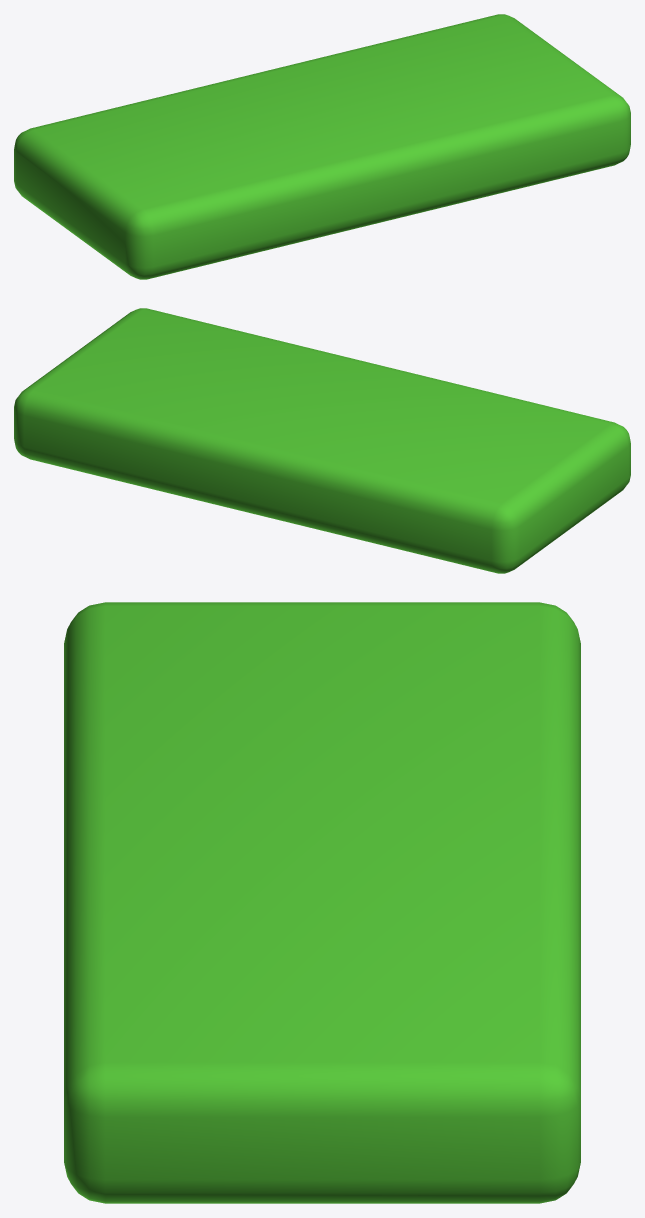
File: grass.fbx
3 views of the same model, one above another, from view 1: azimuth 30°, elevation 25°; view 2: azimuth 150°, elevation 25°; view 3: azimuth 270°, elevation 25° (orthographic). The views are drawn at different scales.
Visible parts, largest first — view 1: Куб.006; view 2: Куб.006; view 3: Куб.006.
Boxes of the visible parts, x1,y1,x2,y2 form: Куб.006: (14, 14, 630, 279); Куб.006: (14, 308, 630, 573); Куб.006: (64, 602, 580, 1203).
Bounding box in the file's own units: 215 × 28.07 × 95.73.
